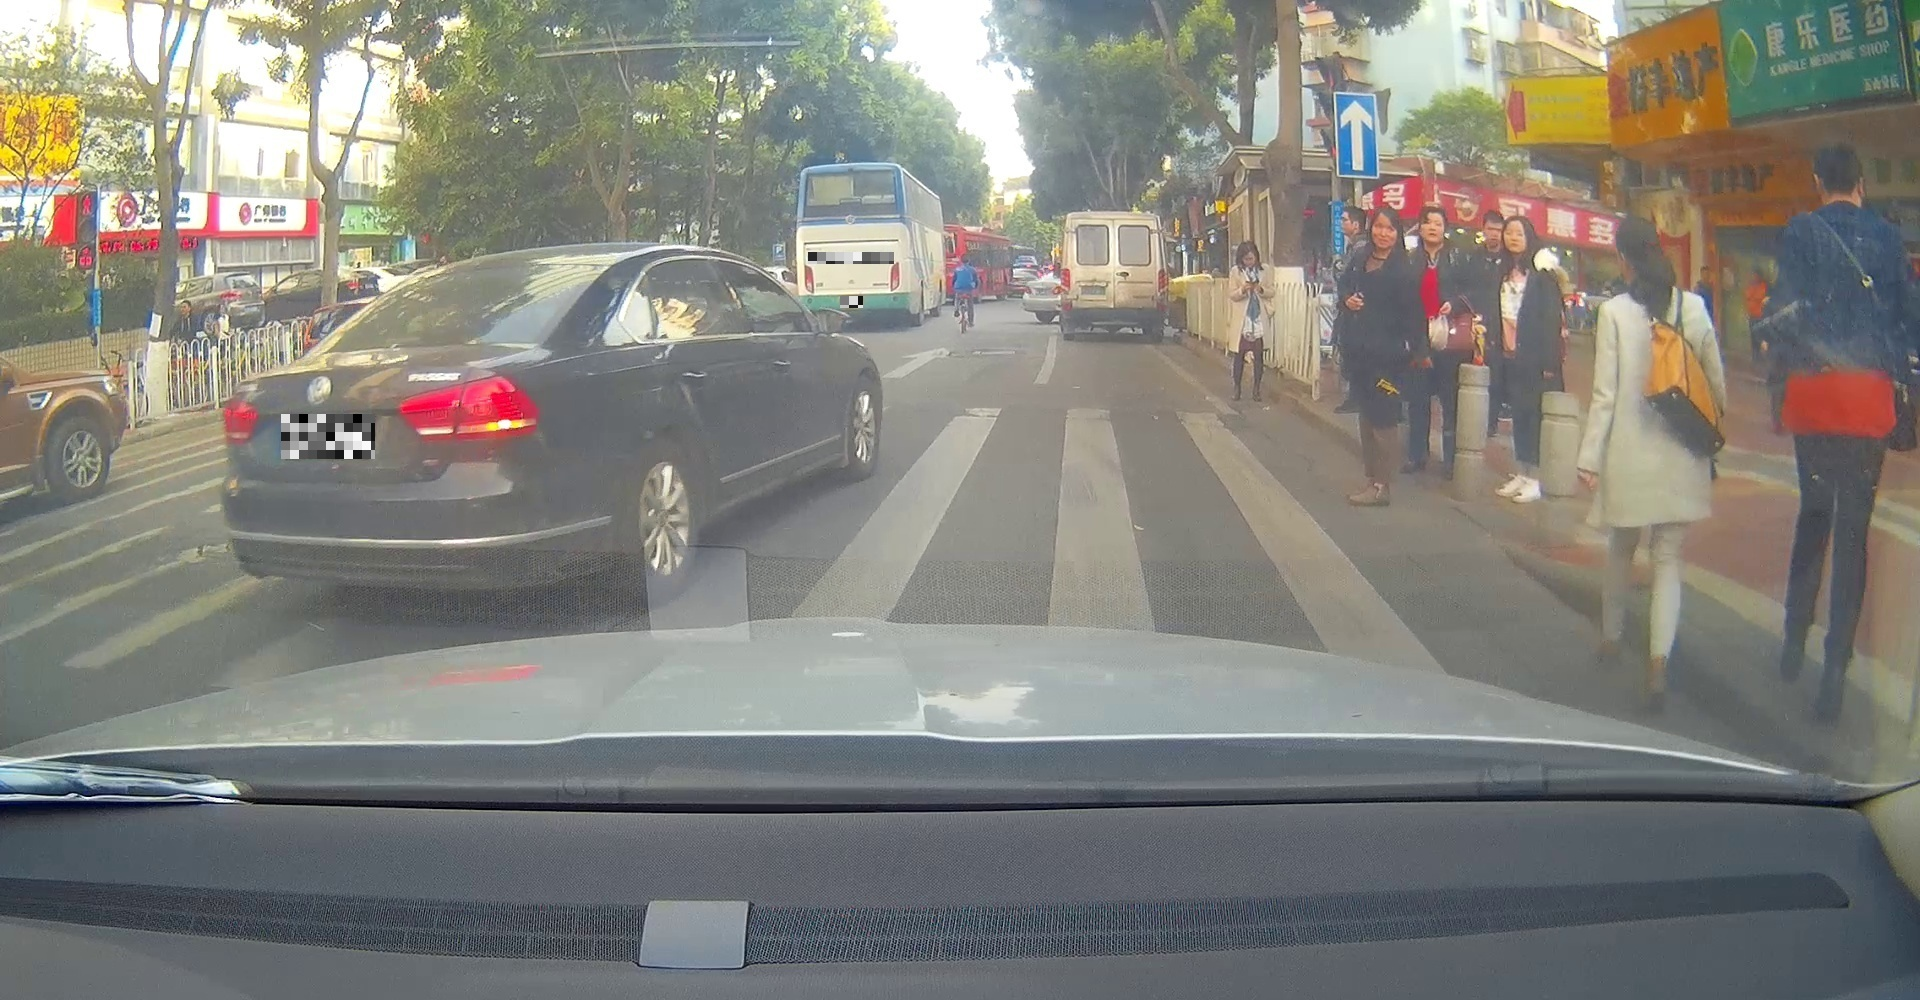L_light: (221, 397, 258, 445), (1060, 268, 1072, 311), (804, 264, 814, 293)
R_light: (397, 374, 540, 442), (1157, 268, 1168, 311), (890, 261, 900, 292)
T_light: (474, 266, 519, 273), (841, 197, 861, 206), (1110, 308, 1120, 311)
day-no: (795, 162, 910, 327), (1060, 211, 1170, 344)
day-right: (218, 246, 603, 610)
plate_1: (281, 414, 375, 459)
plate_2: (808, 253, 894, 264)
plate_3: (841, 296, 863, 308)
